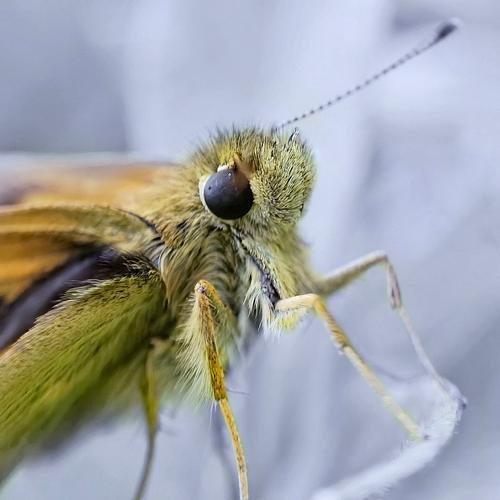Hesperiidae: (1, 19, 464, 487)
